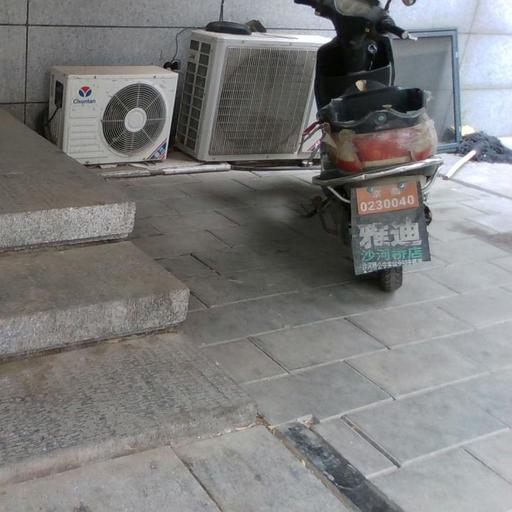stairs: (0, 112, 255, 509)
